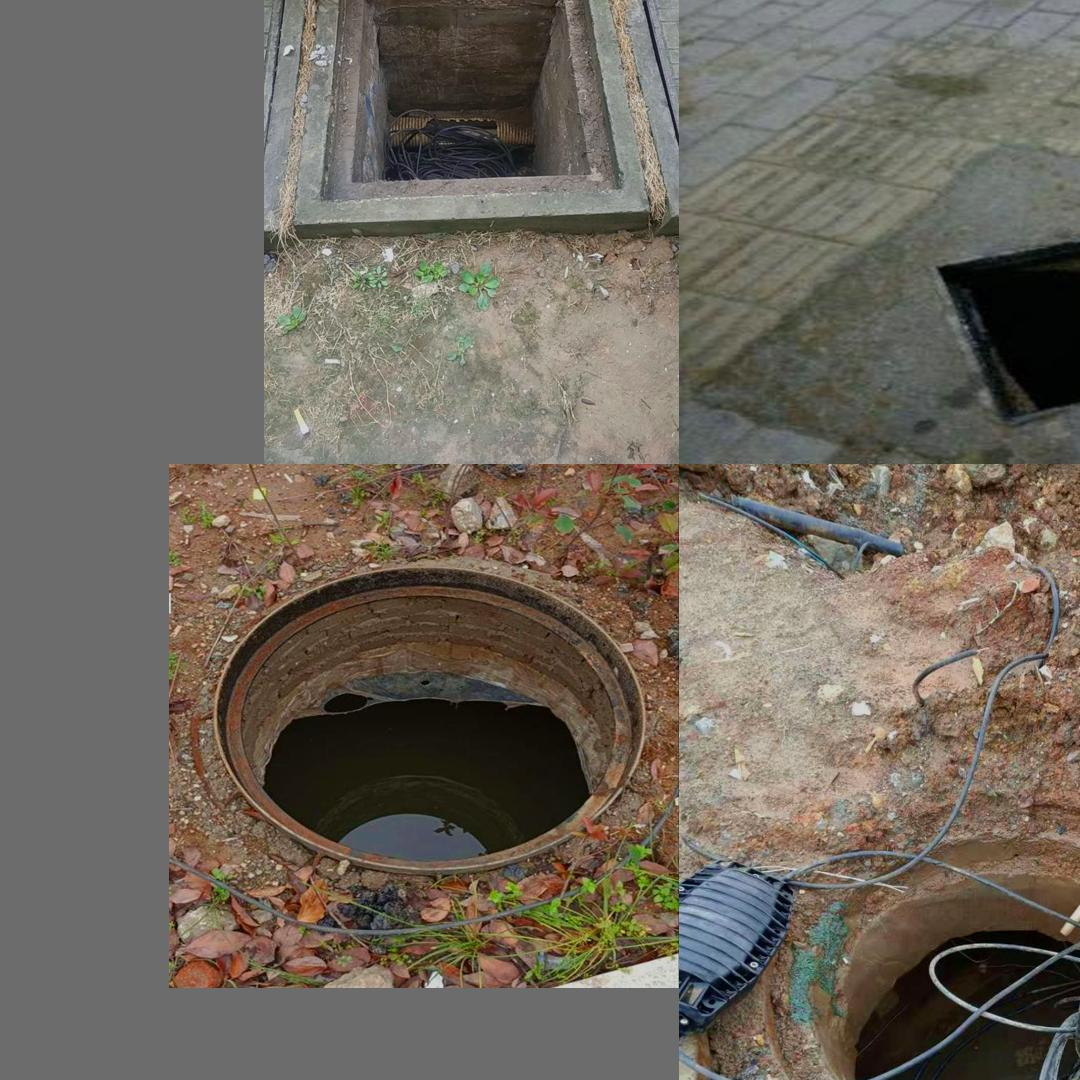lose: (204, 554, 655, 877), (293, 0, 648, 243), (754, 816, 1080, 1080), (916, 218, 1080, 422)
